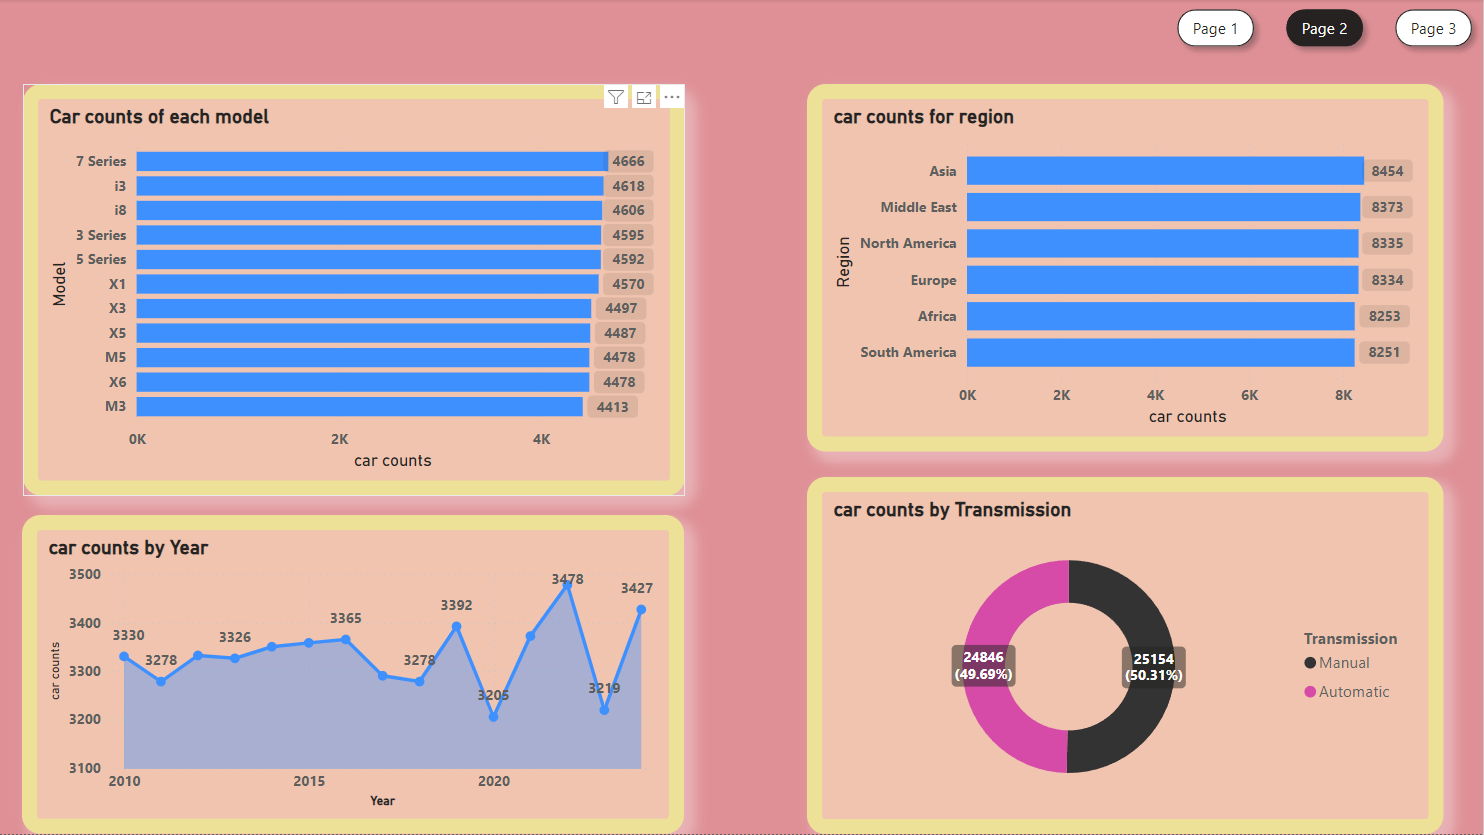

What the dashboard file says about the page in this screenshot:
{"tool":"powerbi","page":{"name":"Page 2","canvas":[1280,720],"ordinal":1},"visuals":[{"type":"barChart","title":"Car counts of each model","fields":{"Category":["BMW_Car_Sales_Classification.Model"],"Y":["BMW_Car_Sales_Classification.car_counts"]},"box":[20.7,73.3,571,355.4],"z":0},{"type":"clusteredBarChart","title":"car counts for region","fields":{"Category":["BMW_Car_Sales_Classification.Region"],"Y":["BMW_Car_Sales_Classification.car_counts"]},"box":[697,73.7,549.5,317.2],"z":1000},{"type":"donutChart","title":"car counts by Transmission","fields":{"Y":["BMW_Car_Sales_Classification.car_counts"],"Category":["BMW_Car_Sales_Classification.Transmission"]},"box":[697,412.1,549.5,308.1],"z":2000},{"type":"lineChart","title":"car counts by Year","fields":{"Category":["BMW_Car_Sales_Classification.Year"],"Y":["BMW_Car_Sales_Classification.car_counts"]},"box":[20.2,445.2,571.2,275],"z":3000},{"type":"pageNavigator","box":[1007.1,0,272.7,50.5],"z":4000}]}

Visuals, with their boxes in screenshot pixels (x1, y1, x2, y2), scaled from the page's 1280x720 canvas onto the 1484x835 screenshot:
"Car counts of each model" barChart: bbox=[24, 85, 686, 497]
"car counts for region" clusteredBarChart: bbox=[808, 85, 1445, 453]
"car counts by Transmission" donutChart: bbox=[808, 478, 1445, 834]
"car counts by Year" lineChart: bbox=[23, 516, 686, 834]
pageNavigator: bbox=[1168, 0, 1483, 59]
